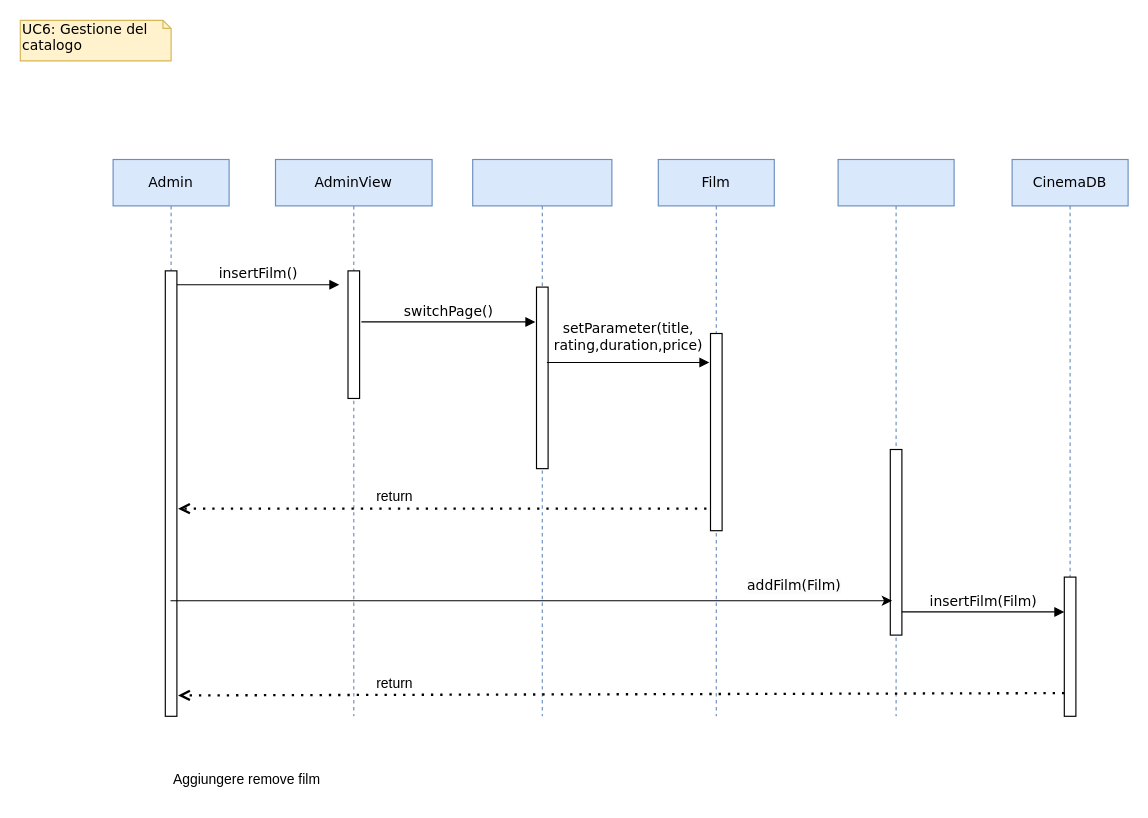
Some shapes in this 1148 by 818 pixel diagram are drawn without their labels. The shapes that lost their labels are listed below. From the top down, each one's centre as x and y in pixels, then its label:
the point at 542,437: AdminView Controller
the point at 895,437: FilmDAO
